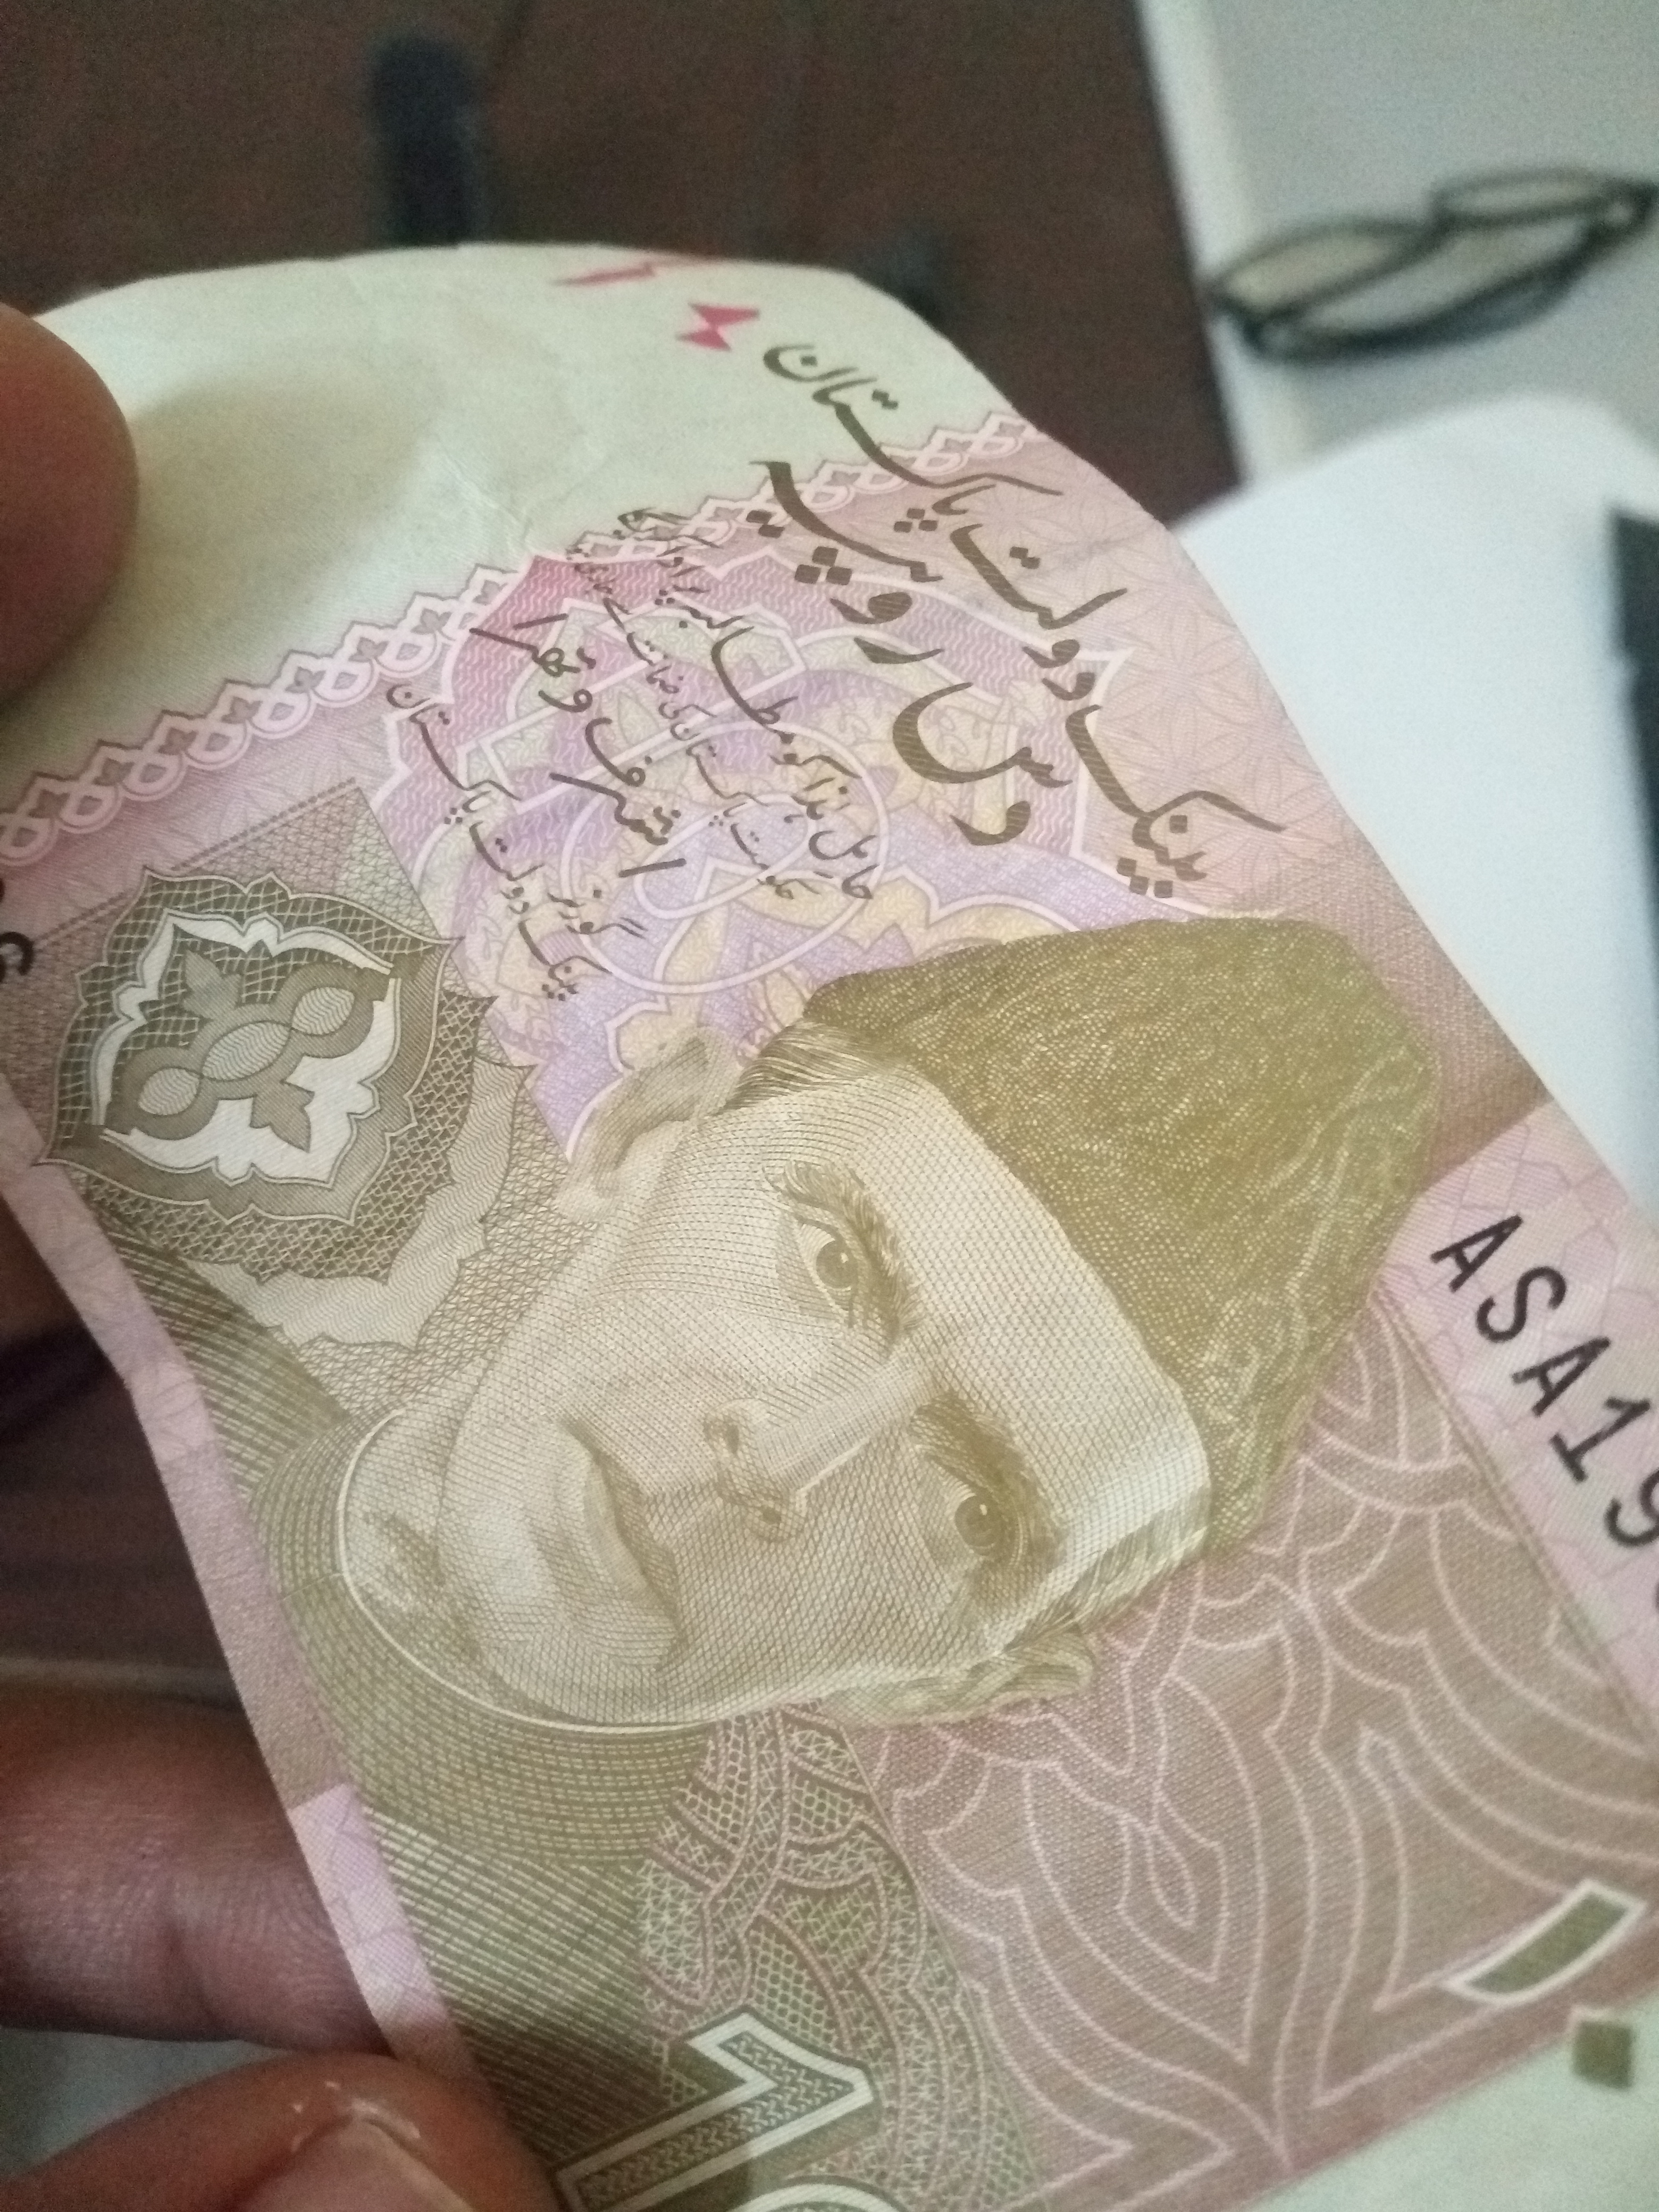10 rupee: (0, 136, 1582, 2179)
